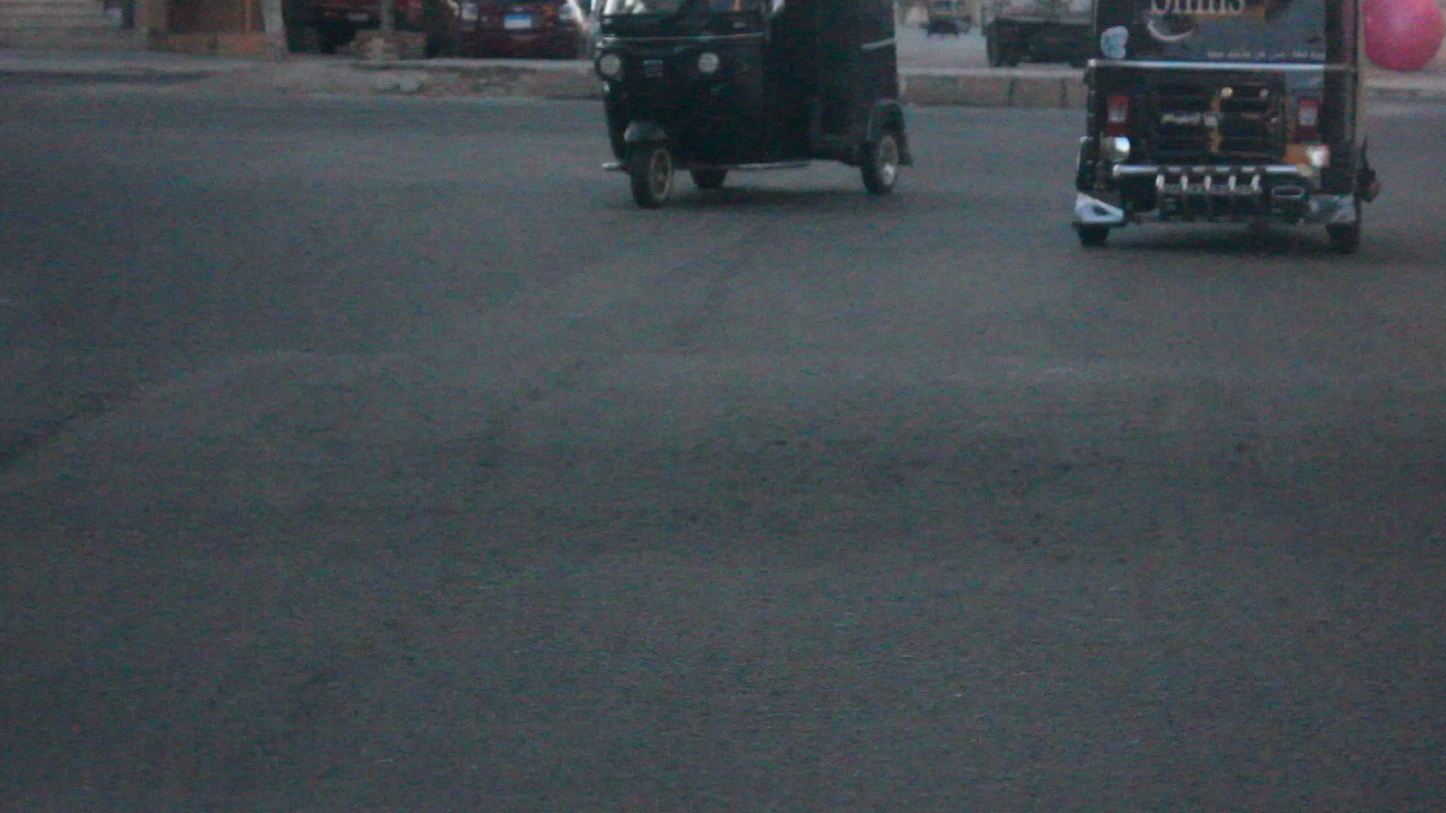Bump: (4, 363, 1446, 546)
